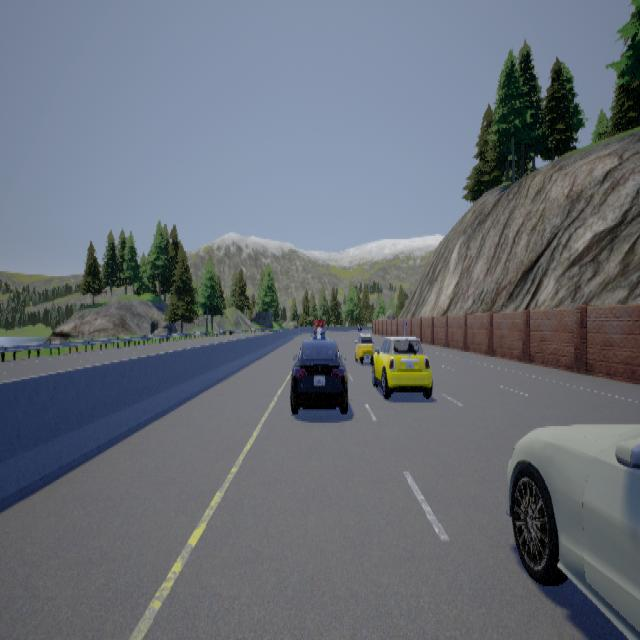traffic_sign: (402, 318, 406, 325)
vehicle: (505, 423, 639, 638), (289, 318, 347, 413), (354, 335, 432, 398)
